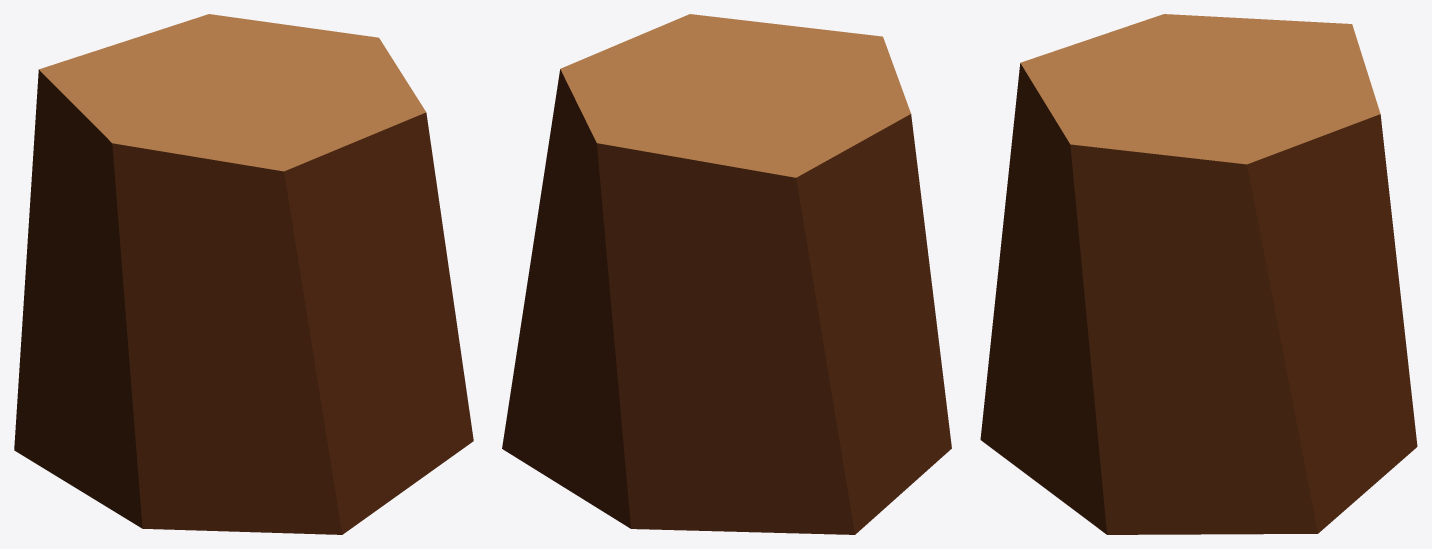
The model's file is TreeStump1.fbx.
3 renders of one model, left to right at view 1: azimuth 30°, elevation 25°; view 2: azimuth 150°, elevation 25°; view 3: azimuth 270°, elevation 25°, orthographic.
Parts seen in each view (by area): view 1: Cylinder; view 2: Cylinder; view 3: Cylinder.
Part boxes in pixels (bbox=[...]): Cylinder: bbox=[14, 14, 473, 534]; Cylinder: bbox=[502, 14, 951, 534]; Cylinder: bbox=[980, 14, 1417, 534].
Size of the model in its own units: 1.34 by 1.3 by 1.44.
